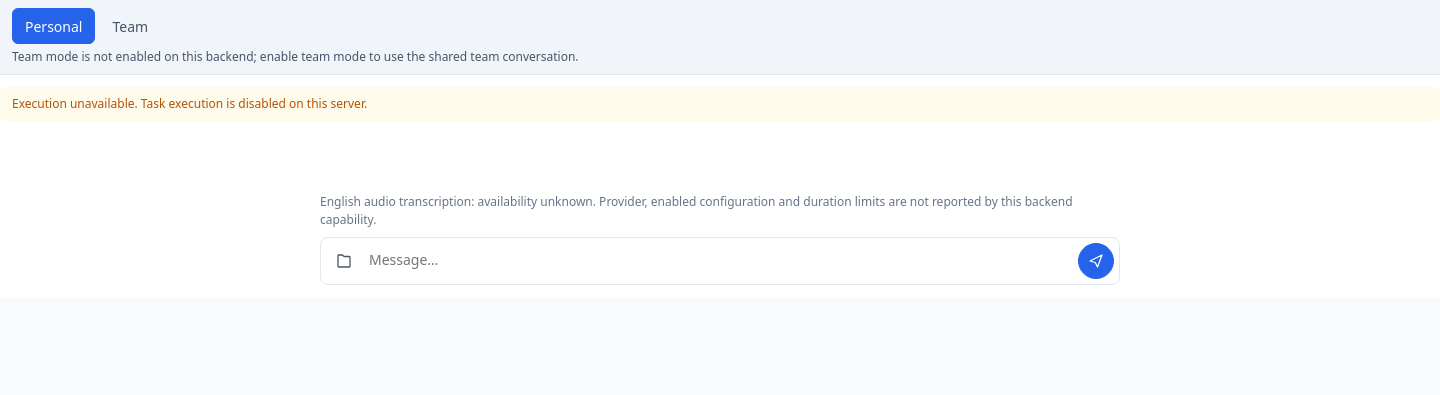
Test case: LG-013 Chat: real history and sending › switches to a newly created Task returned by a delivery reply
The image size is (1440, 395).
In the text box named "Message for Global": (720, 261) [320,237,1120,285], type "implement the feature"
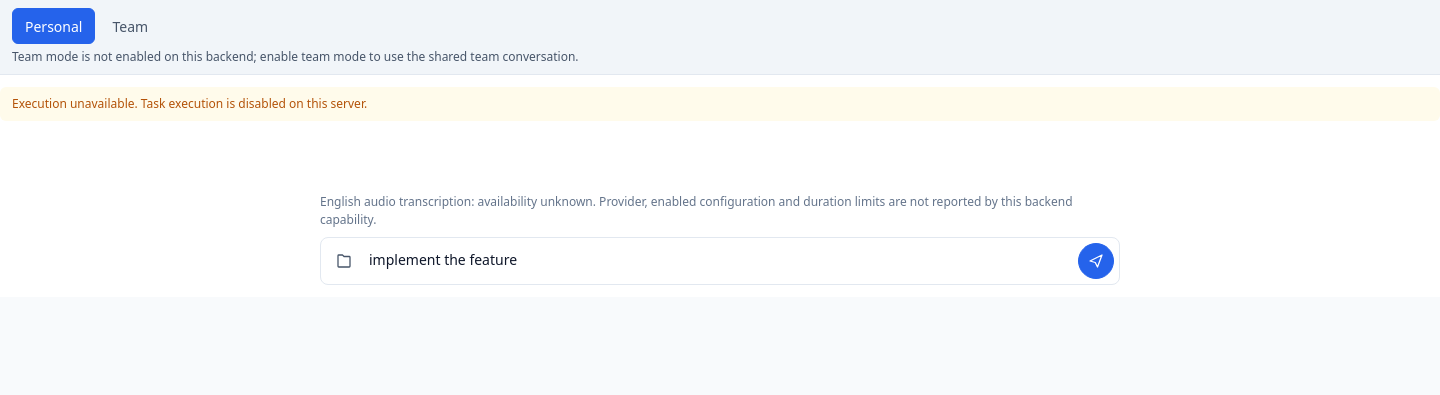
Press Enter in the text box named "Message for Global", box [320,237,1120,285]
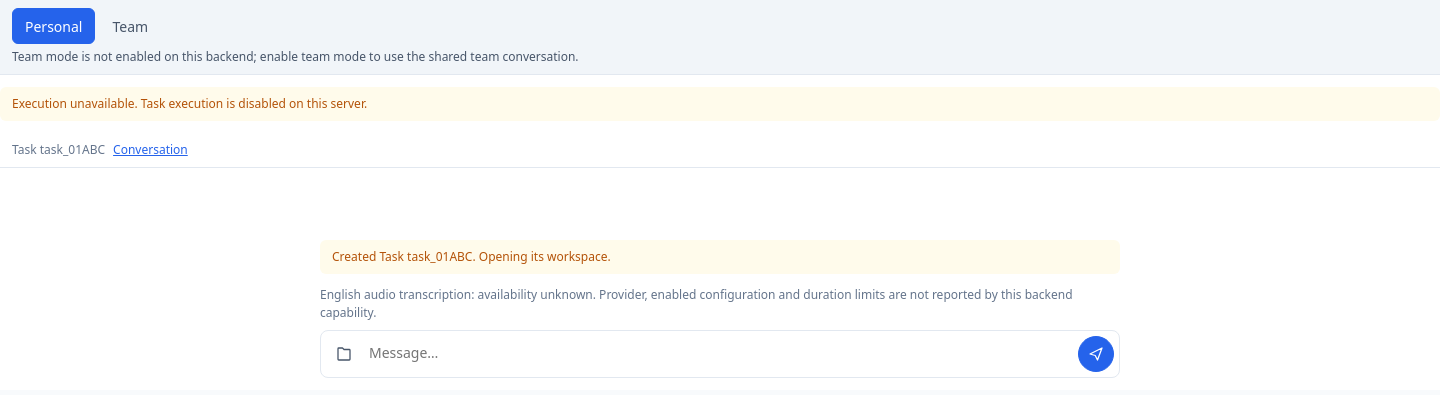
Expected: the text box named "Message for task_01ABC" is shown, [320,330,1120,378]
Result: the text "Created Task task_01ABC. Opening its workspace." is shown at [320,240,1120,274]
